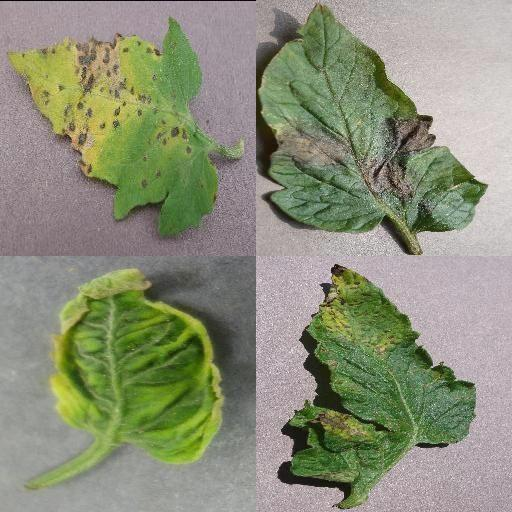Late Blight: (256, 2, 490, 235)
Septoria: (6, 16, 220, 235), (287, 262, 477, 482)
Yellow Leaf Curl Virus: (46, 267, 224, 465)
